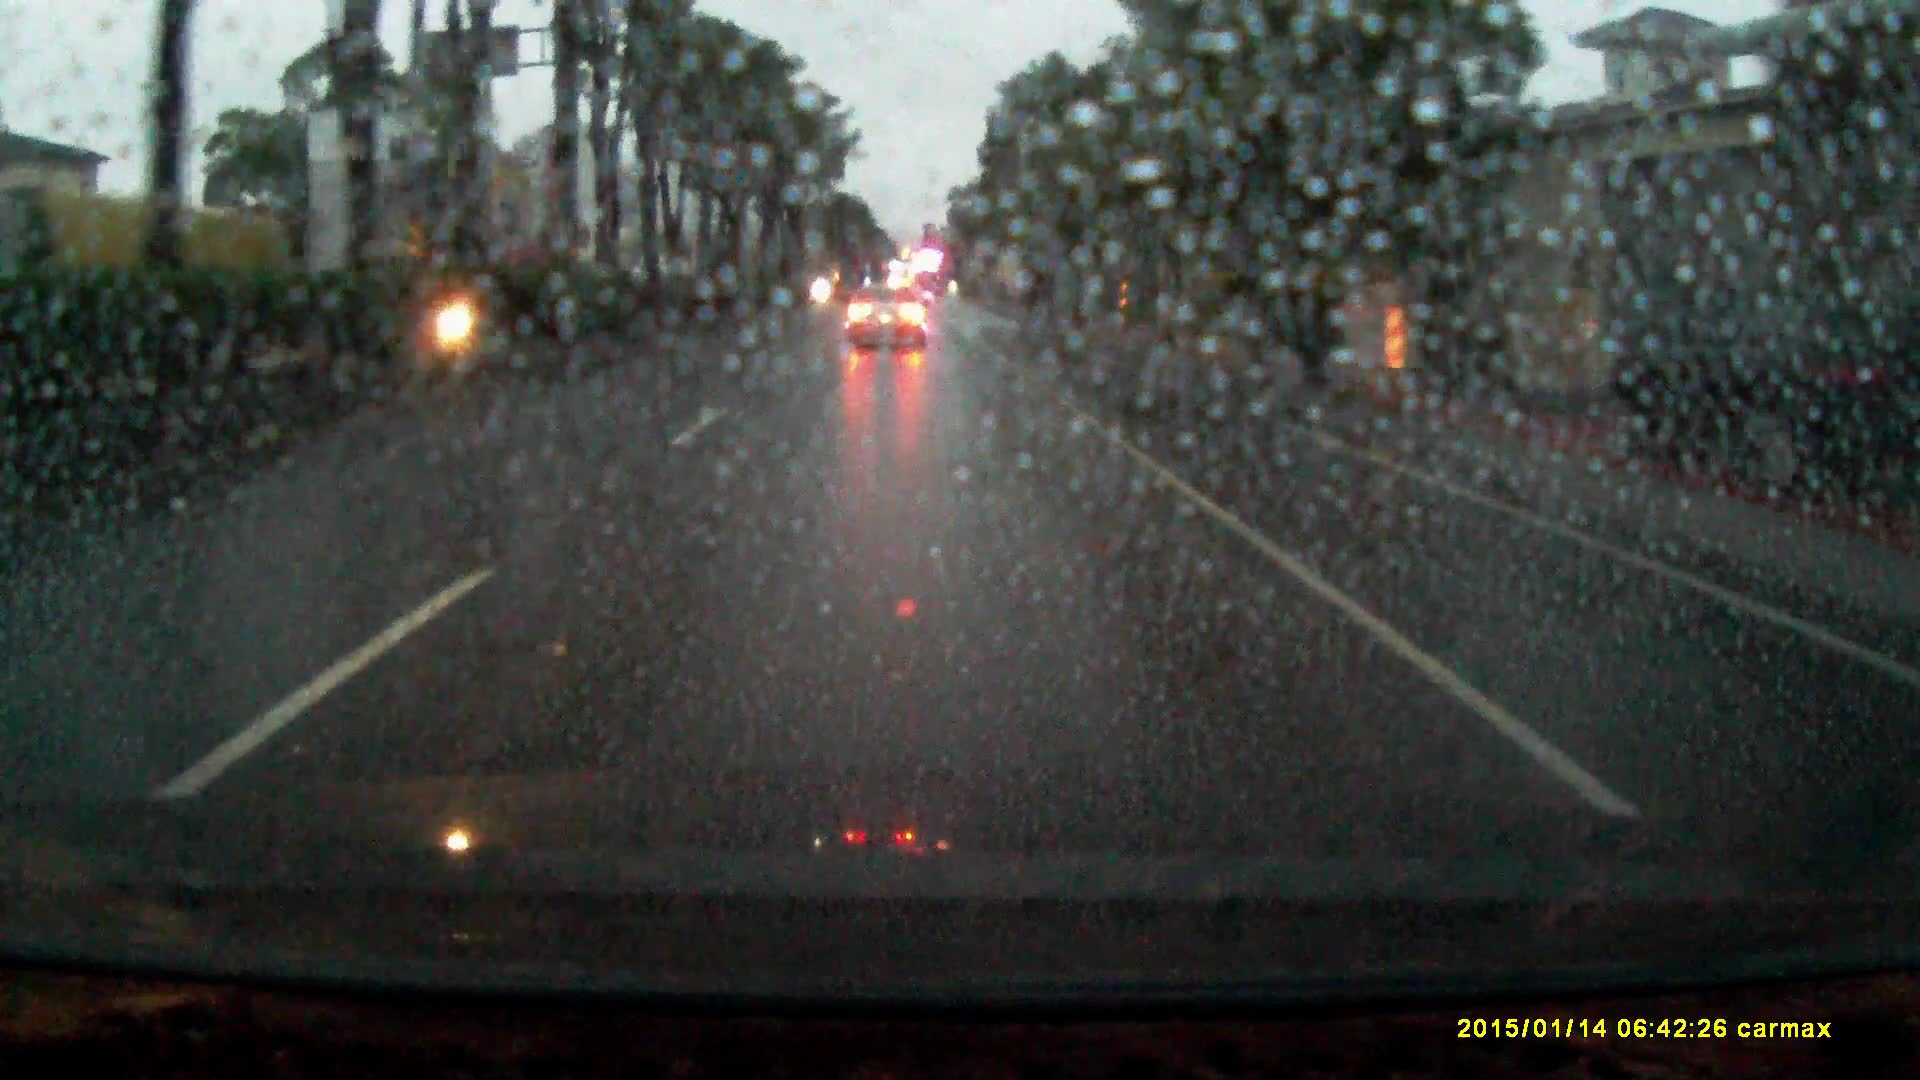vehicle: (1586, 306, 1876, 509), (18, 204, 294, 382), (845, 301, 928, 371)
